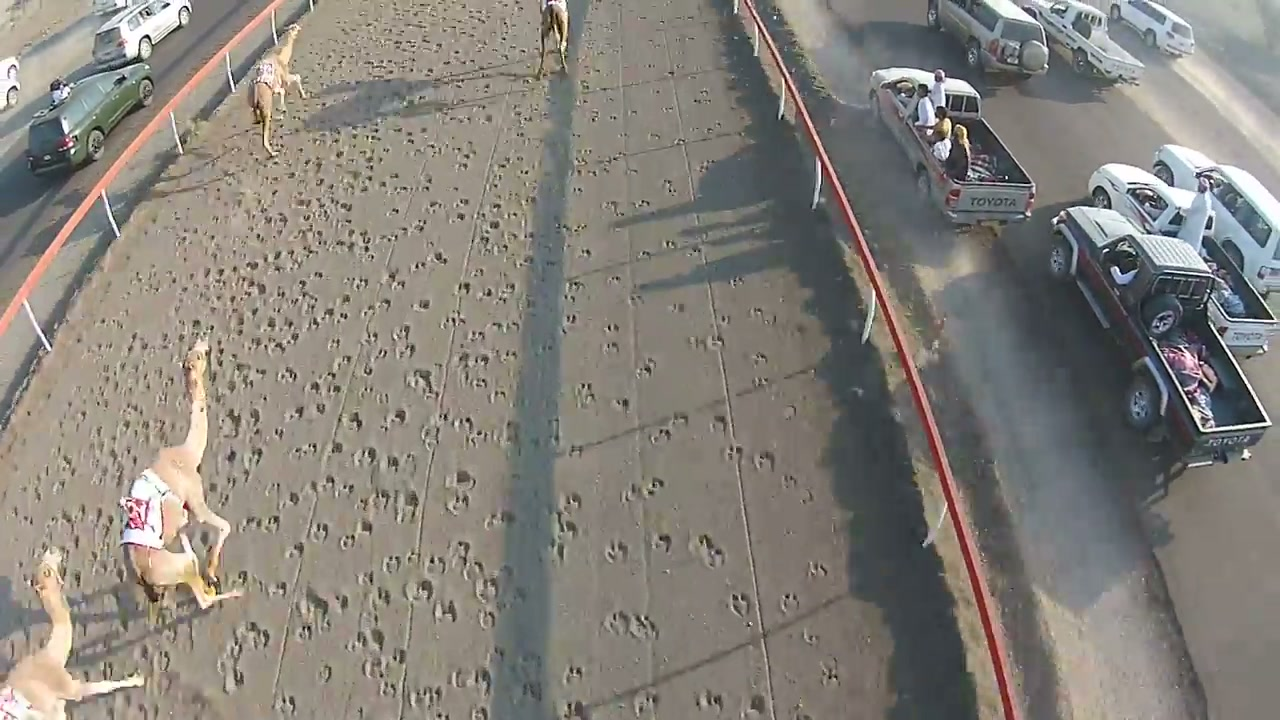animal_footprint: (440, 86, 826, 719), (153, 26, 511, 706)
